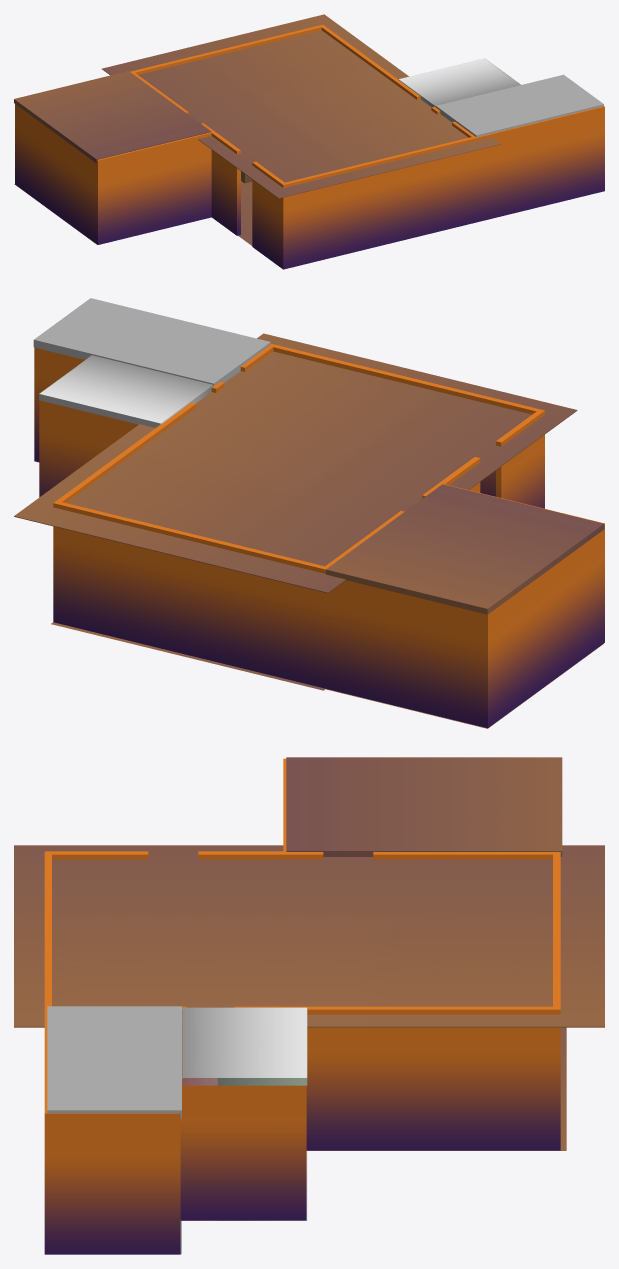
The model's file is WallsandRoof.FBX.
3 views of the same model, one above another, from view 1: azimuth 30°, elevation 25°; view 2: azimuth 150°, elevation 25°; view 3: azimuth 270°, elevation 25° (orthographic). The views are drawn at different scales.
Parts seen in each view (by area): view 1: Walls, Kitchen/Living001, Bedroom001, Bathroom001, Laundry001, Kitchen/Living; view 2: Walls, Kitchen/Living001, Bedroom001, Bathroom001, Laundry001, Kitchen/Living; view 3: Kitchen/Living001, Walls, Bedroom001, Bathroom001, Laundry001, Kitchen/Living.
Part boxes in pixels (x1,y1,x2,y2): Walls: [15, 24, 604, 269]; Kitchen/Living001: [102, 14, 500, 198]; Bedroom001: [14, 71, 211, 163]; Bathroom001: [436, 74, 603, 137]; Laundry001: [398, 58, 520, 107]; Kitchen/Living: [238, 181, 252, 245]; Walls: [34, 343, 604, 728]; Kitchen/Living001: [14, 333, 577, 593]; Bedroom001: [326, 484, 604, 614]; Bathroom001: [33, 298, 270, 385]; Laundry001: [39, 355, 213, 427]; Kitchen/Living: [51, 622, 325, 690]; Kitchen/Living001: [14, 845, 604, 1027]; Walls: [44, 758, 560, 1254]; Bedroom001: [286, 757, 562, 856]; Bathroom001: [47, 1006, 181, 1119]; Laundry001: [182, 1007, 307, 1085]; Kitchen/Living: [307, 1027, 566, 1150].
Bounding box in the file's own units: 921 × 174 × 648.
